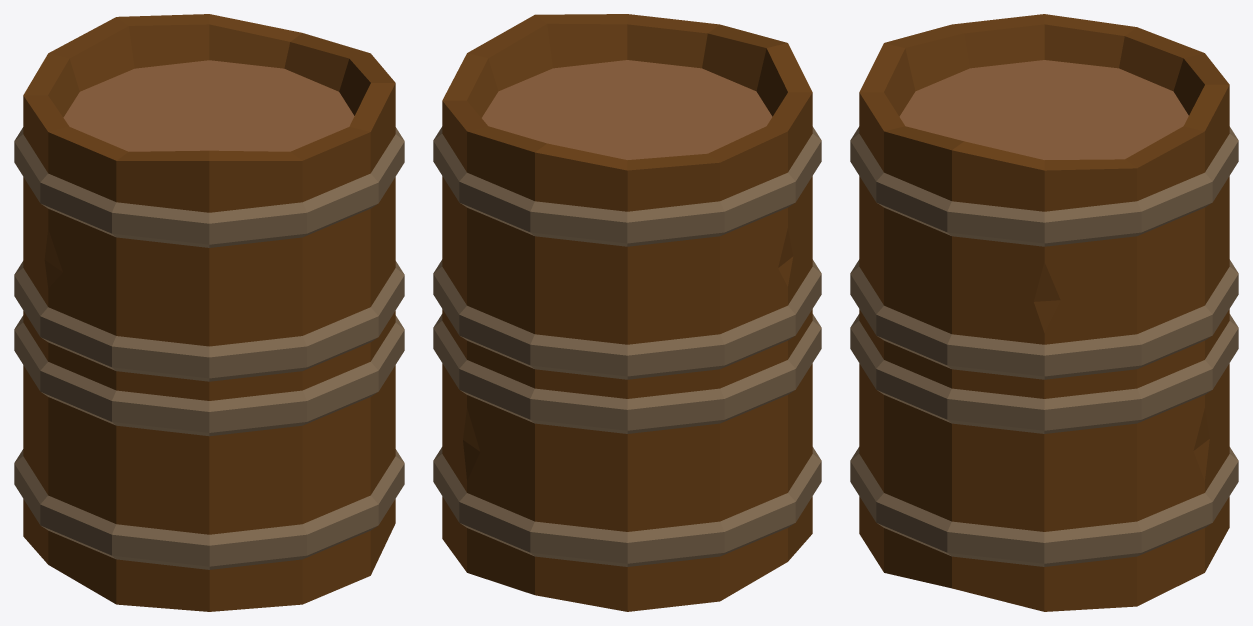
File: RopeBarrel.fbx
3 renders of one model, left to right at view 1: azimuth 30°, elevation 25°; view 2: azimuth 150°, elevation 25°; view 3: azimuth 270°, elevation 25°, orthographic.
Visible parts, largest first — view 1: RopeBarrel; view 2: RopeBarrel; view 3: RopeBarrel.
Part boxes in pixels (x1,y1,x2,y2): RopeBarrel: (14,14,404,611); RopeBarrel: (433,14,821,611); RopeBarrel: (850,14,1238,611).
Size of the model in its own units: 72 by 93.39 by 72.
